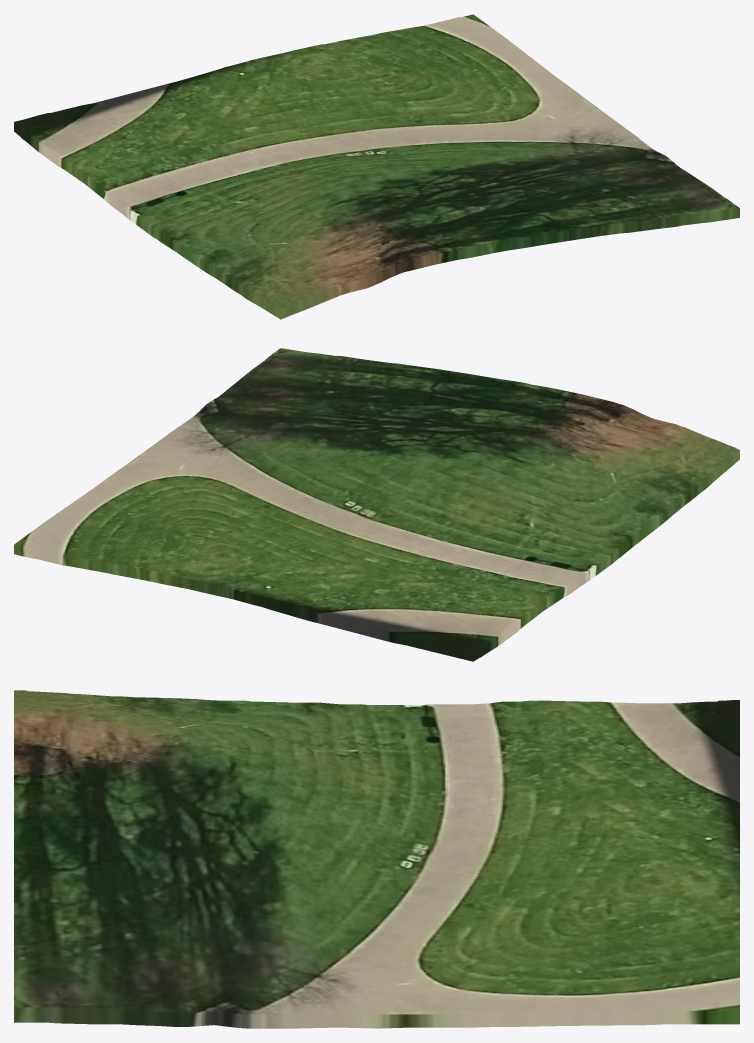
The model's file is z20-167784-405219-h0-yup-uvflip-v3-world.glb.
The picture shows the model from 3 angles, top to bottom: view 1: azimuth 30°, elevation 25°; view 2: azimuth 150°, elevation 25°; view 3: azimuth 270°, elevation 25°; orthographic projection. The views are drawn at different scales.
Size of the model in its own units: 30.16 by 2.64 by 30.32.
1 material, 1 textured.
